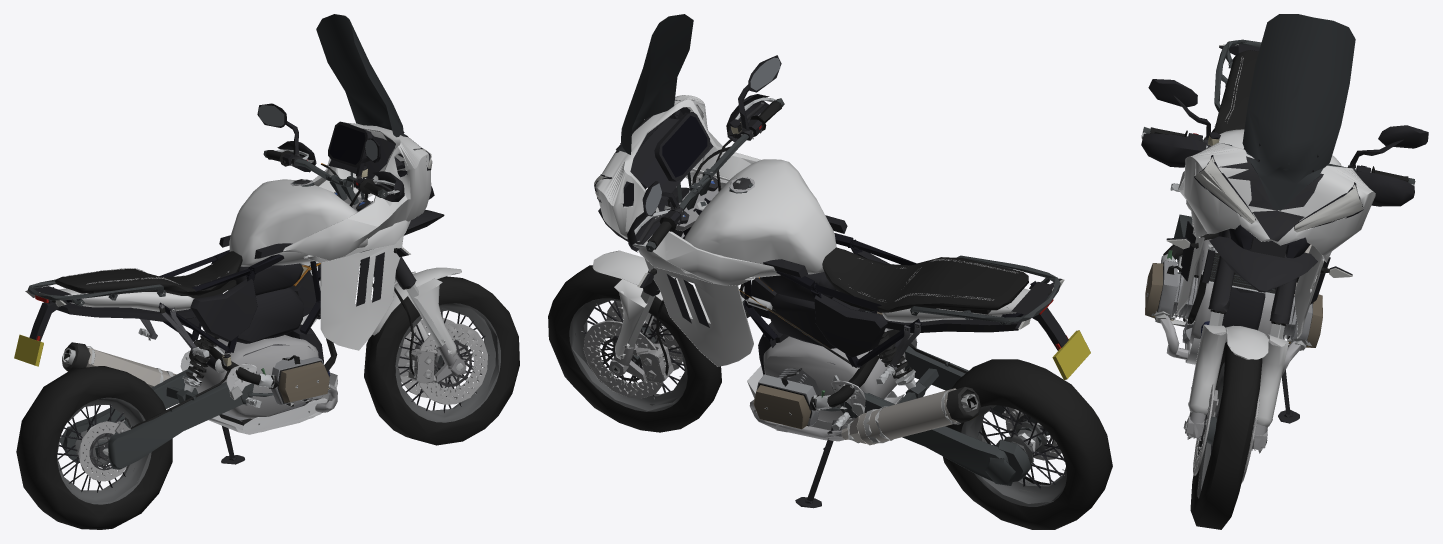
File: SM_Prop_house_bike_5.glb
3 renders of one model, left to right at view 1: azimuth 30°, elevation 25°; view 2: azimuth 150°, elevation 25°; view 3: azimuth 270°, elevation 25°, orthographic. The views are drawn at different scales.
Parts seen in each view (by area): view 1: SM_Prop_house_bike_5; view 2: SM_Prop_house_bike_5; view 3: SM_Prop_house_bike_5.
Part boxes in pixels (bbox=[...]): SM_Prop_house_bike_5: bbox=[14, 14, 519, 529]; SM_Prop_house_bike_5: bbox=[548, 14, 1112, 529]; SM_Prop_house_bike_5: bbox=[1141, 14, 1428, 529].
Bounding box in the file's own units: 2.21 × 1.76 × 0.9709.
